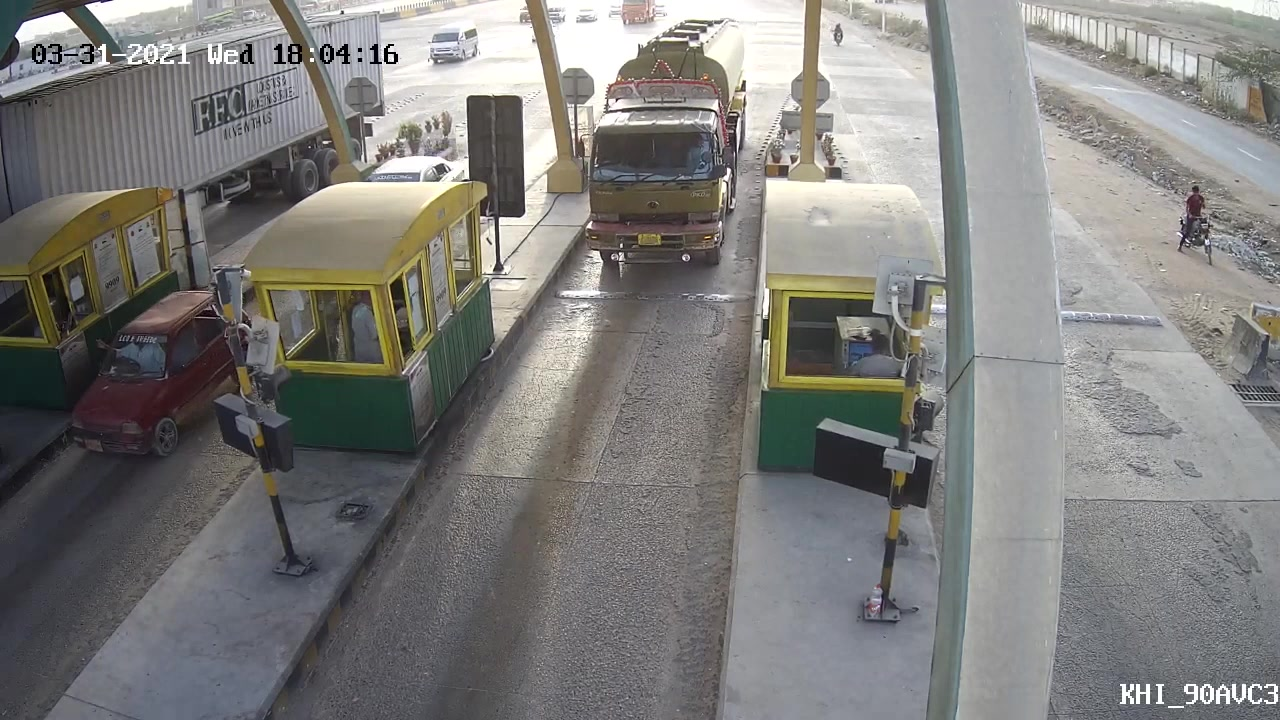F6: (568, 14, 760, 279)
